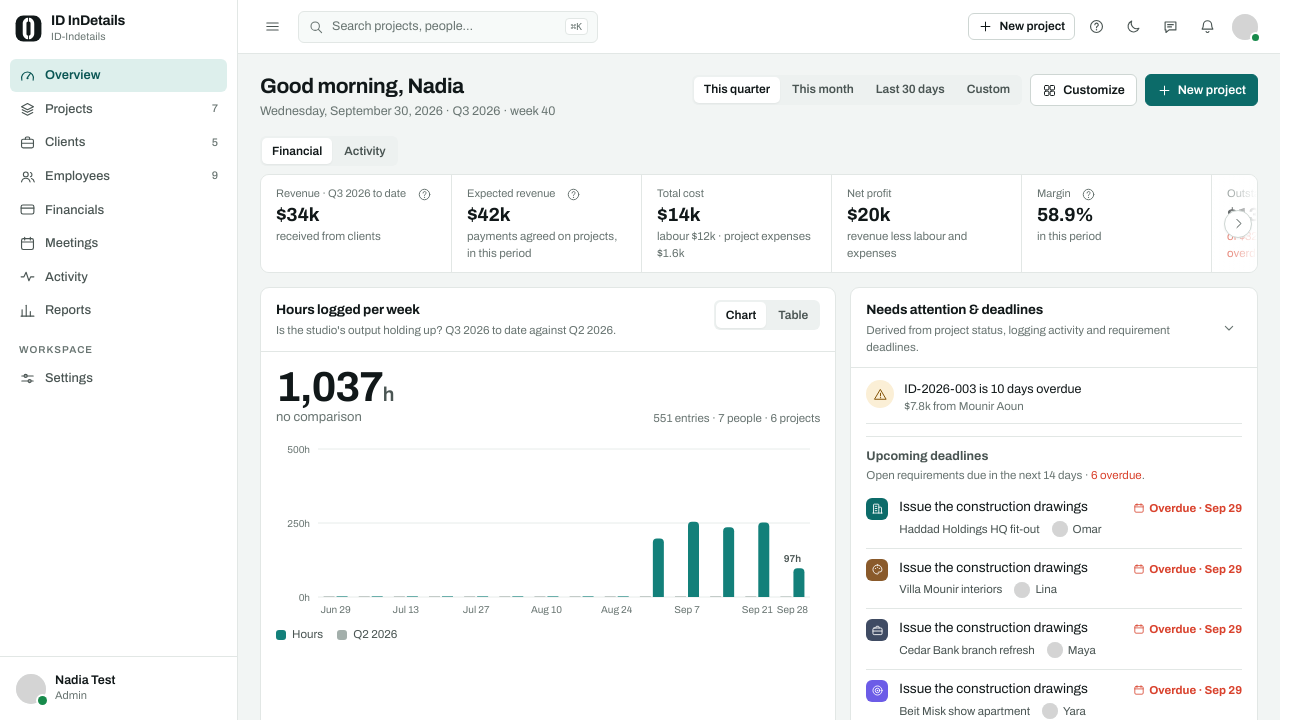
Scenario: Overview › shows who is online only with work_entry:view_all
This screenshot has width=1292, height=720.
What coordinates should you click on to do the following:
click the tab "Activity"
I would click on:
 (365, 151)
Its box is 334,138 -> 396,164.
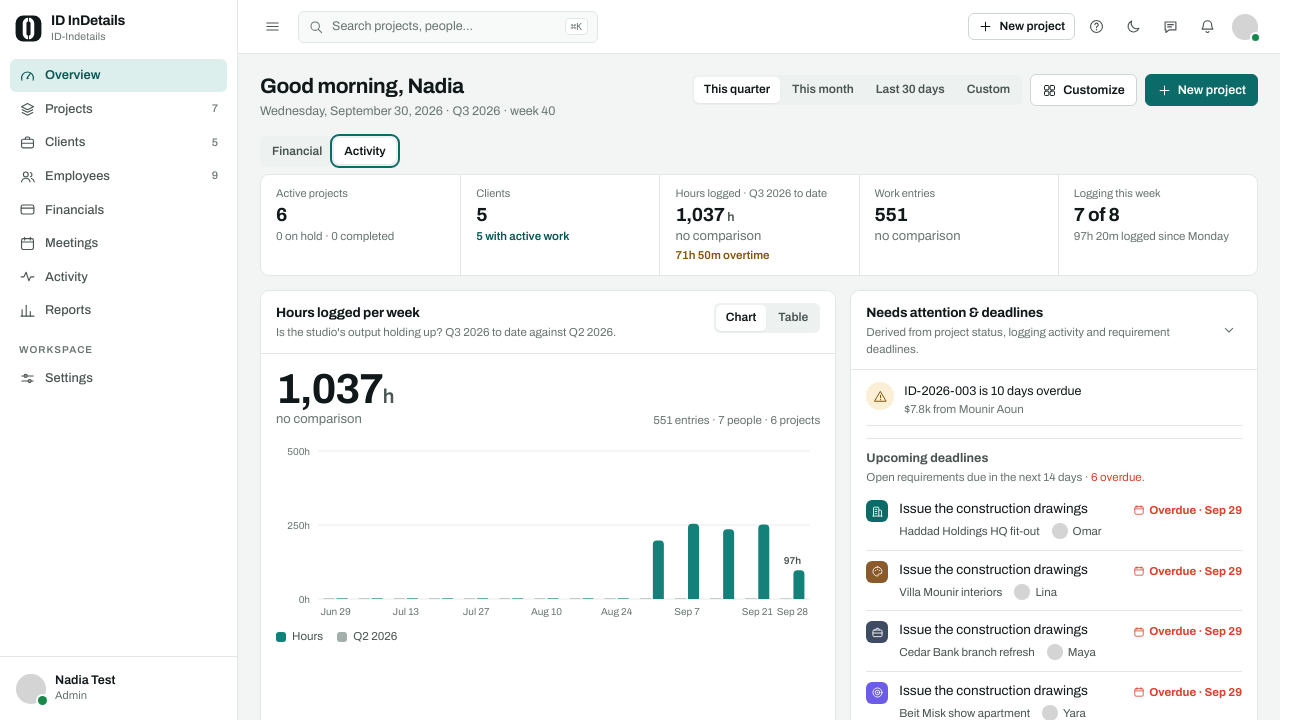
expect the text "Logging this week" is shown: met, box 1074,187 -> 1161,199
